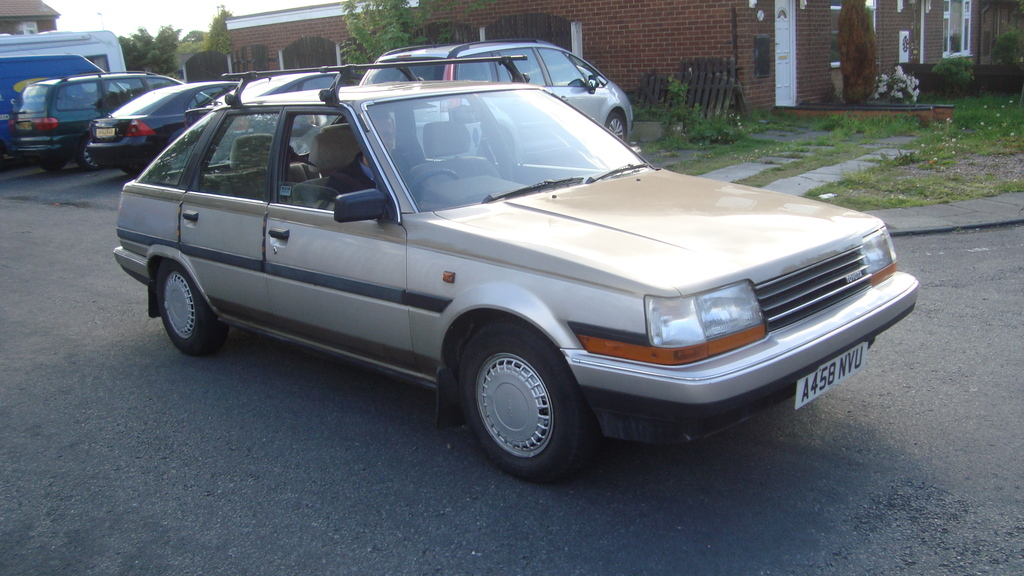Car: (117, 59, 878, 470), (355, 40, 638, 135), (8, 65, 188, 168), (161, 59, 364, 150), (74, 76, 243, 177)
